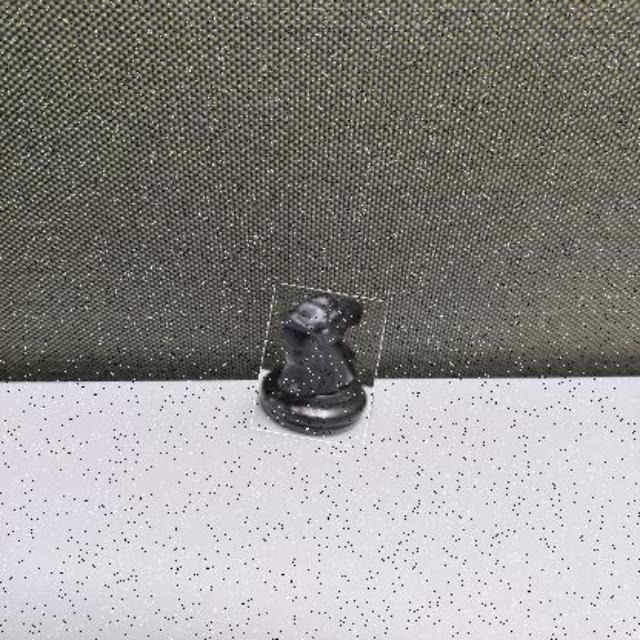black-knight: (258, 287, 382, 442)
